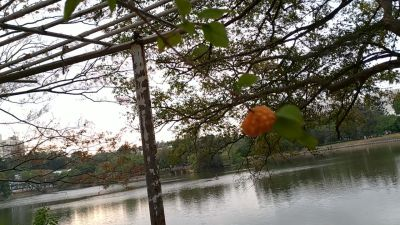eggs: (241, 105, 278, 140)
